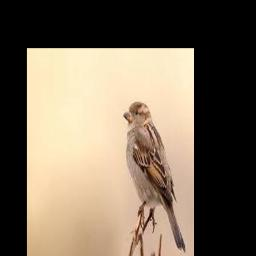Sparrow: (123, 102, 185, 252)
